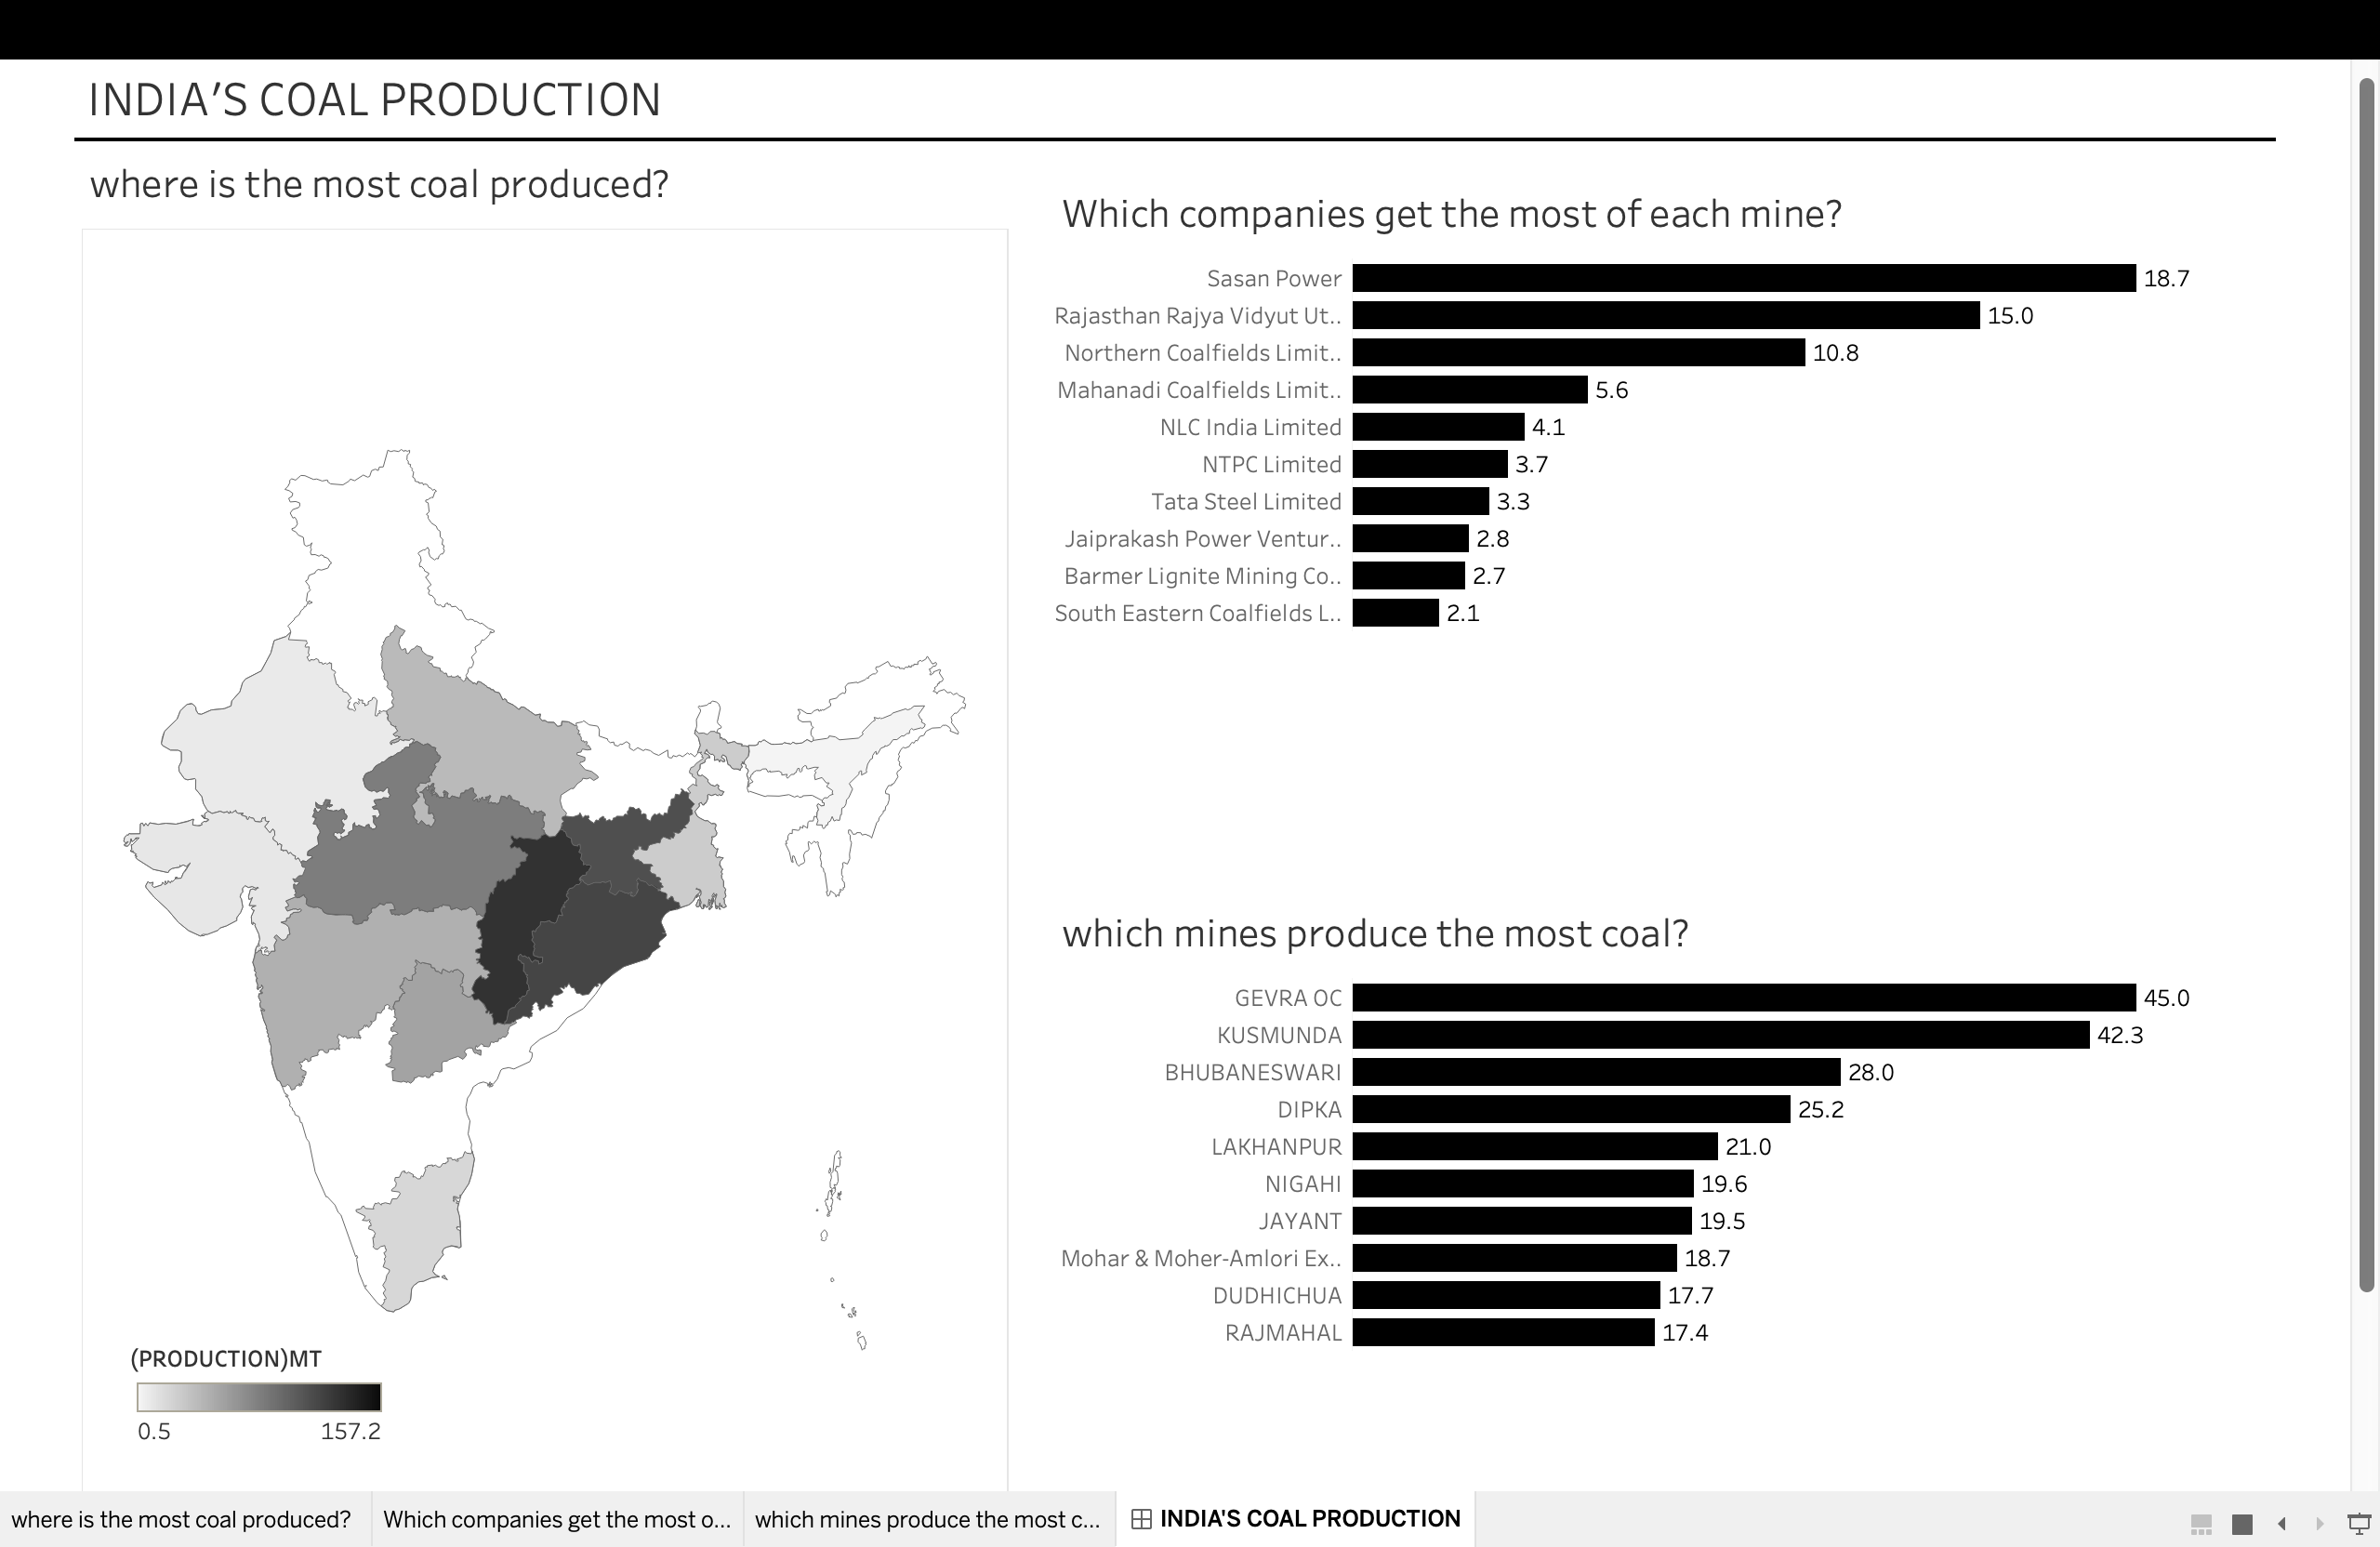

The dashboard page shown, as its layout file describes it:
{"tool":"tableau","page":{"name":"INDIA'S COAL PRODUCTION","canvas":[1200,900],"ordinal":0},"visuals":[{"type":"title","box":[8,8,1184,42]},{"type":"worksheet","title":"where is the most coal produced?","mark":"Multipolygon","rows":["Latitude","Latitude"],"cols":["Longitude"],"box":[8,52,507,774]},{"type":"worksheet","title":"Which companies get the most of each mine?","mark":"Automatic","rows":["Coal Mine Owner"],"cols":["Calculation_1989324428294021120"],"box":[515,52,677,387]},{"type":"worksheet","title":"which mines produce the most coal?","mark":"Automatic","rows":["Mine Name"],"cols":["Production"],"box":[515,439,677,387]},{"type":"legend","title":"where is the most coal produced?","param":"[federated.1kujqha0tl23hm1473ebt05t3jug].[sum:Production:qk]","box":[38,698,140,76]},{"type":"text","box":[8,828,1184,25]}]}

Visuals, with their boxes on the page's 1200x900 design canvas (x1, y1, x2, y2). These are canvas units, not pixel positions in the 2380x1547 screenshot, which may show the page scaled, cropped or inside an application window:
title: 8, 8, 1192, 50
"where is the most coal produced?" worksheet (Multipolygon marks): 8, 52, 515, 826
"Which companies get the most of each mine?" worksheet: 515, 52, 1192, 439
"which mines produce the most coal?" worksheet: 515, 439, 1192, 826
"where is the most coal produced?" legend: 38, 698, 178, 774
text: 8, 828, 1192, 853
